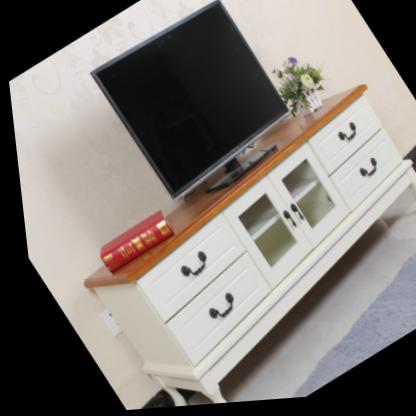TV stand: (74, 85, 416, 409)
